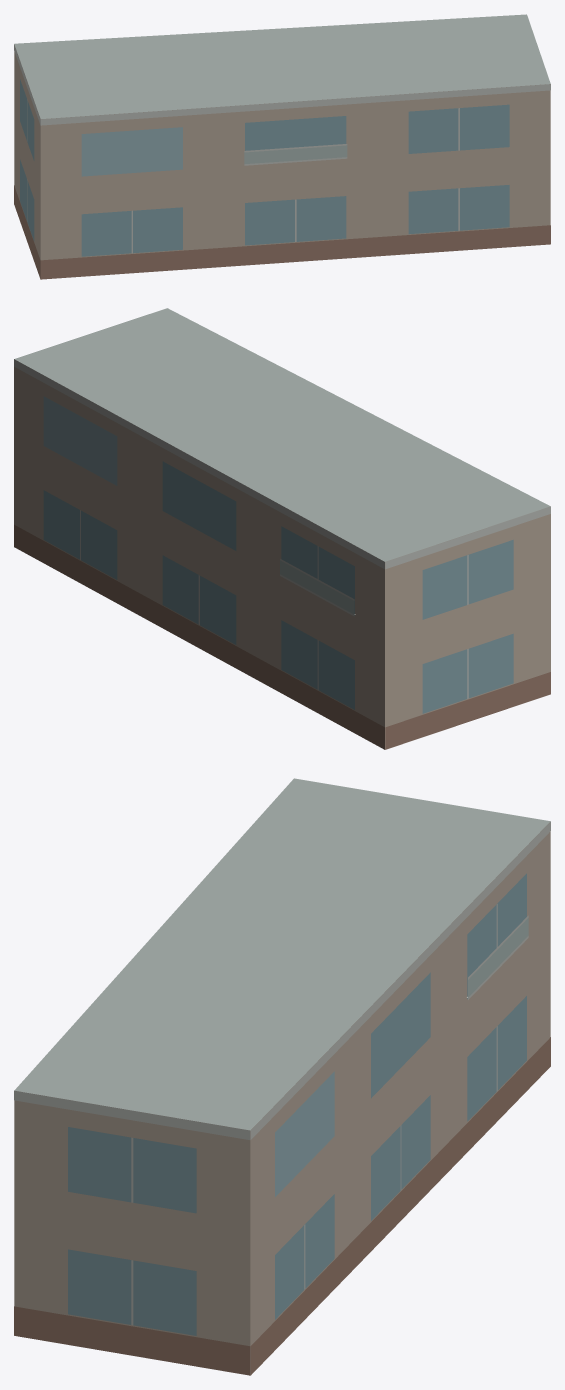
Rendered from survey-upis-32733354.glb.
The picture shows the model from 3 angles, top to bottom: view 1: azimuth 30°, elevation 25°; view 2: azimuth 150°, elevation 25°; view 3: azimuth 270°, elevation 25°; orthographic projection. The views are drawn at different scales.
Parts seen in each view (by area): view 1: survey-upis-32733354.tmp; view 2: survey-upis-32733354.tmp; view 3: survey-upis-32733354.tmp.
Boxes of the visible parts, x1,y1,x2,y2 form: survey-upis-32733354.tmp: (14,14,550,279); survey-upis-32733354.tmp: (14,308,550,749); survey-upis-32733354.tmp: (14,778,550,1375).
Size of the model in its own units: 18.81 by 6.1 by 12.11.
